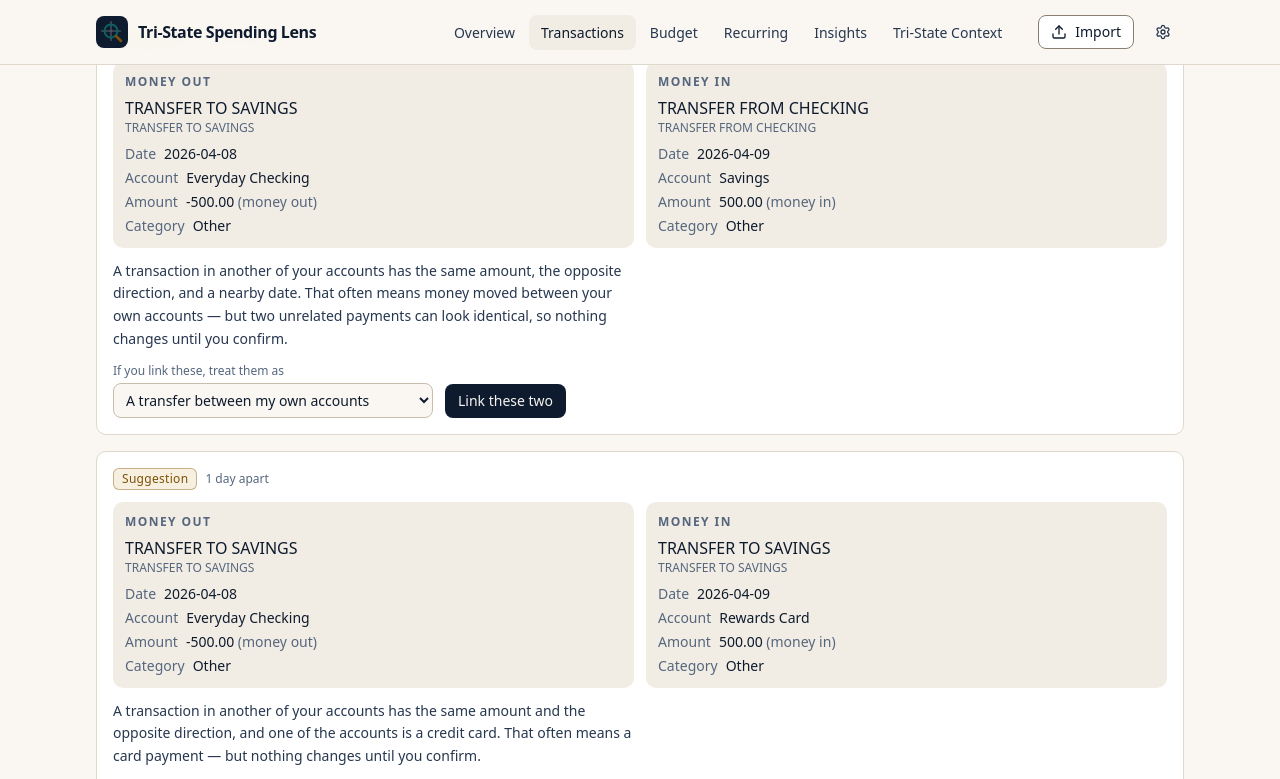
Test: transfer suggestions › reports a sanitized refusal when an endpoint was linked elsewhere first
(page scrolled)
Click the button "Link these two" at (506, 400), box [445,384,566,418]
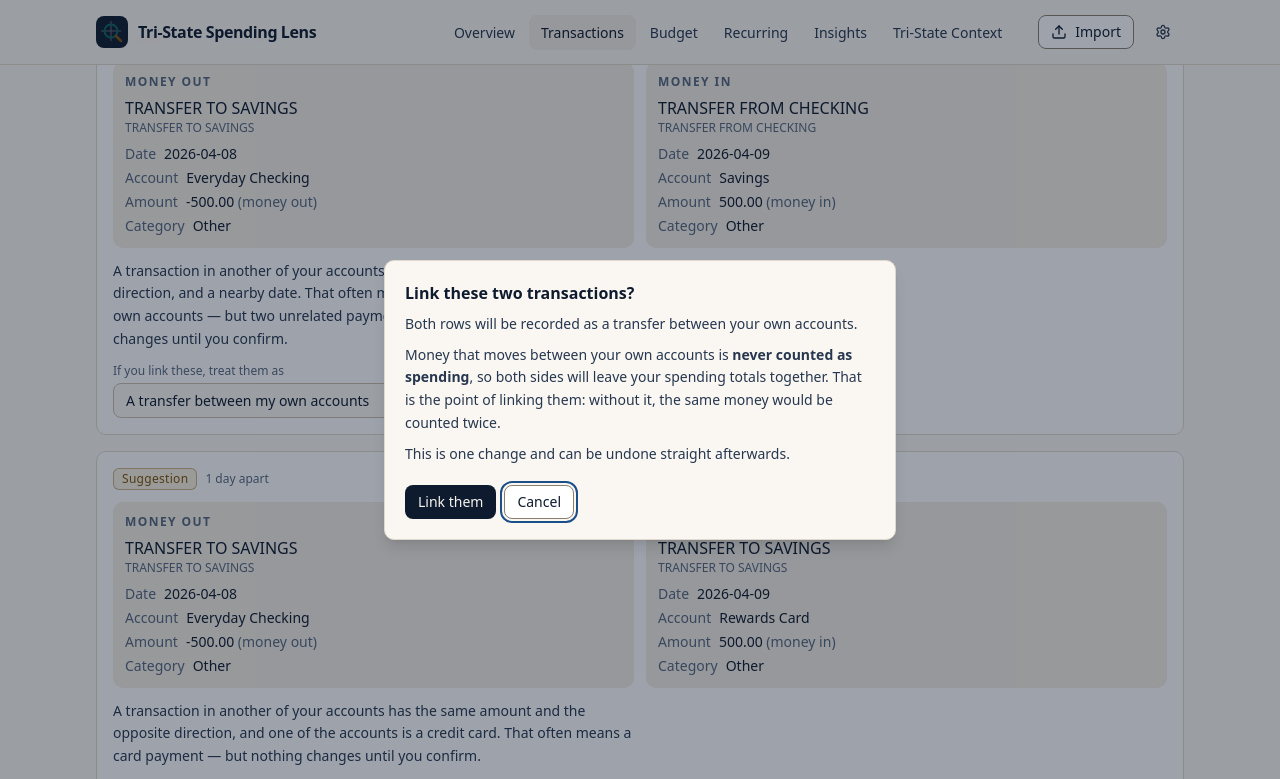
Click the button "Link them" at (451, 502), box [405,485,496,519]
(page scrolled)
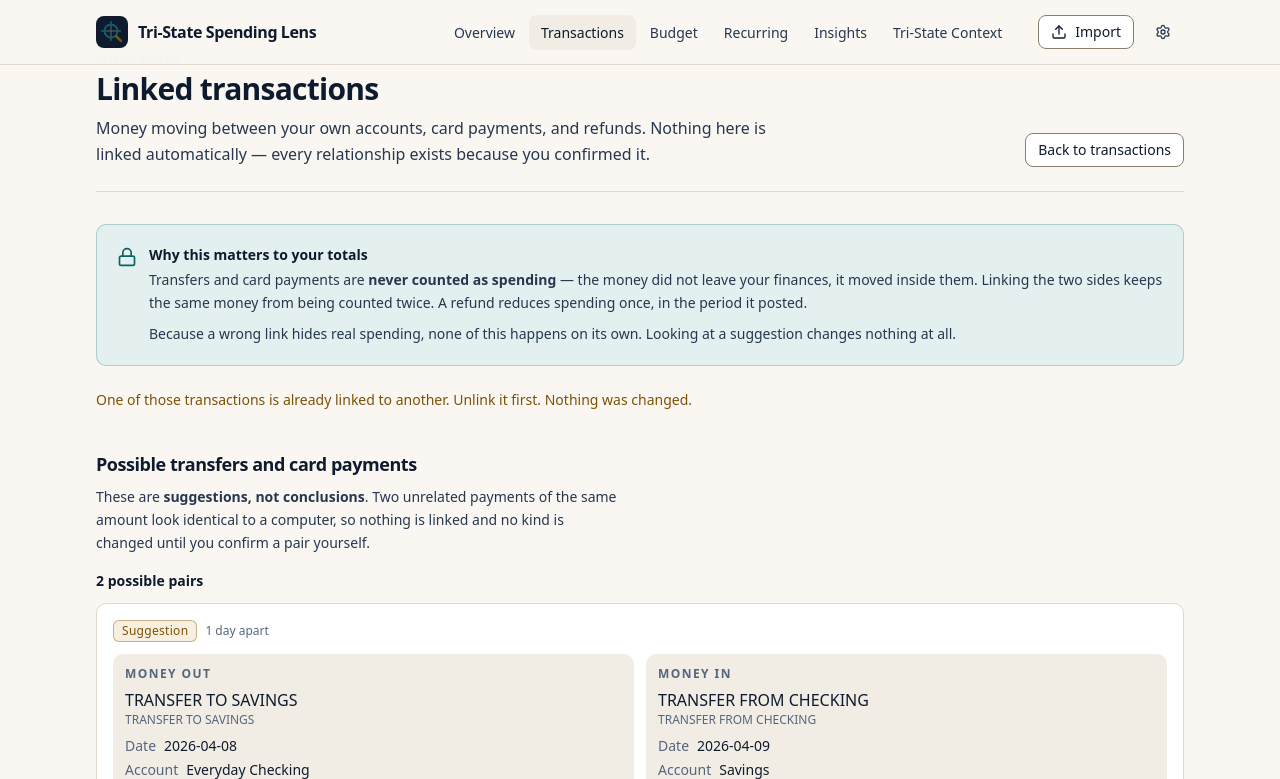
Expected: the message shows "already linked", [96,390,692,409]
